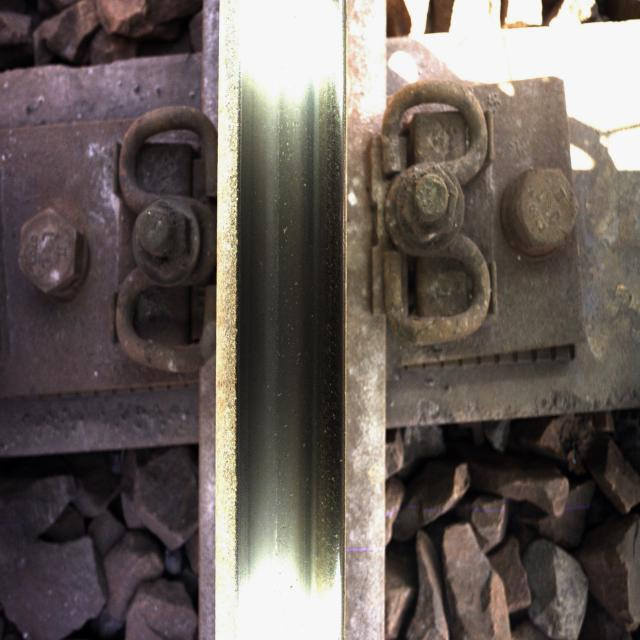break: (240, 95, 330, 590)
